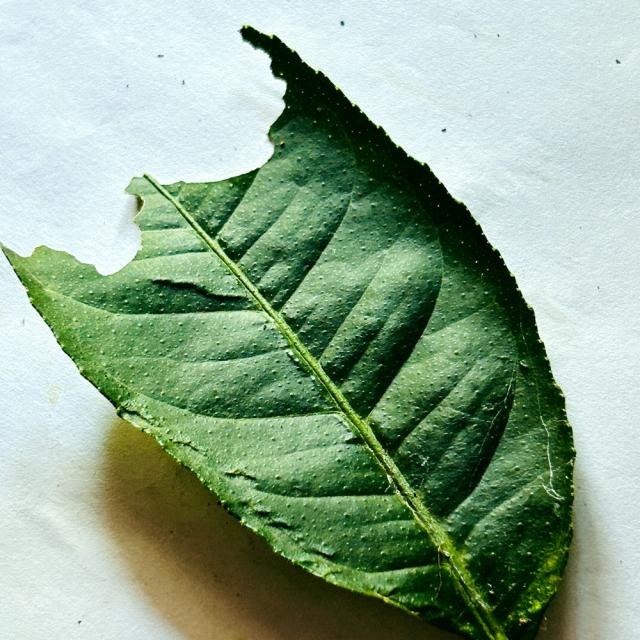Deficiency Leaf: (6, 31, 282, 272)
Lemon: (3, 26, 575, 639)
